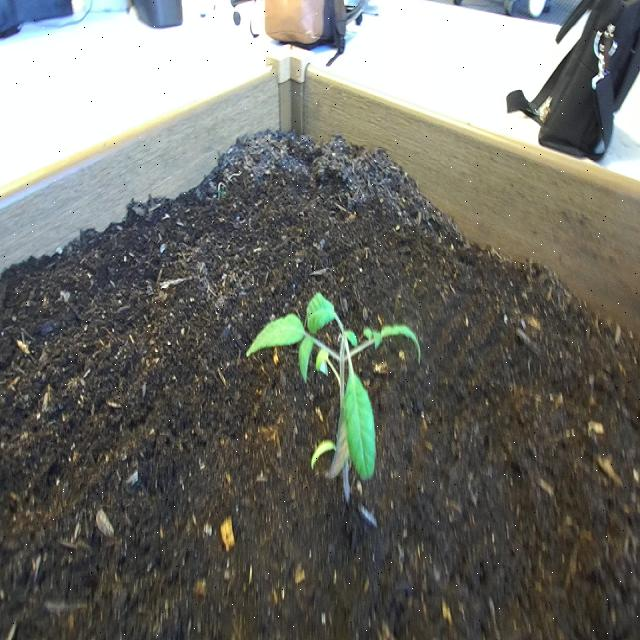Healthy: (239, 282, 428, 513)
